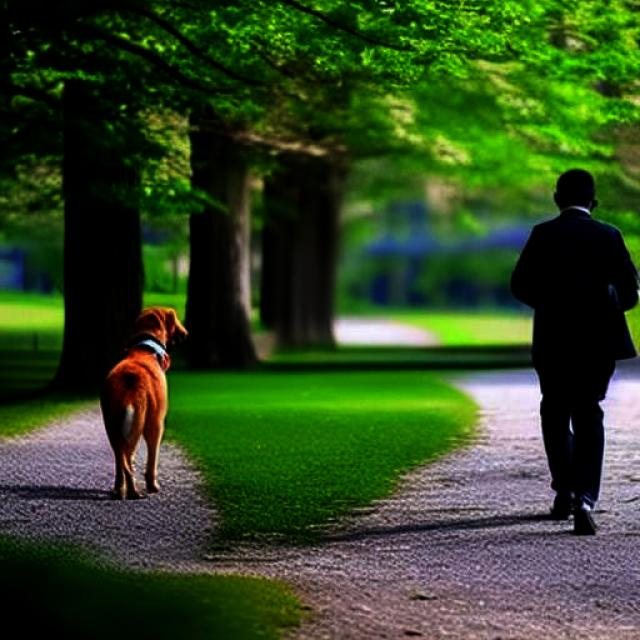Unleashed_Dog: (102, 307, 615, 502)
